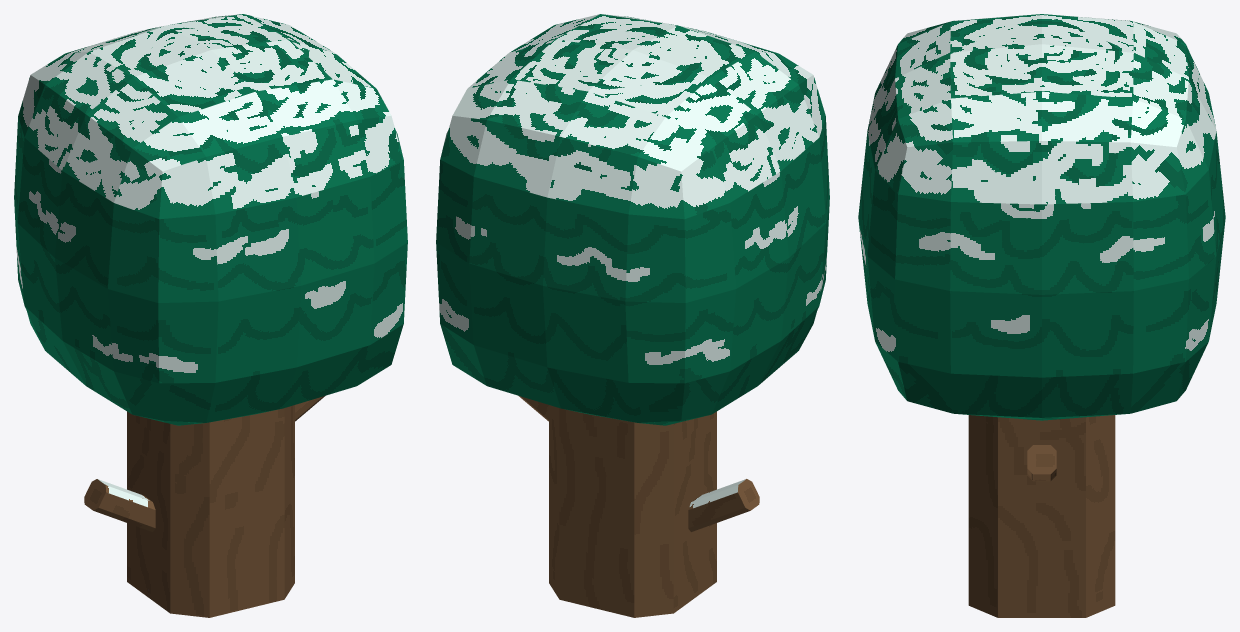
Rendered from tree3dwinter.gltf.
The picture shows the model from 3 angles, left to right: view 1: azimuth 30°, elevation 25°; view 2: azimuth 150°, elevation 25°; view 3: azimuth 270°, elevation 25°; orthographic projection.
Parts seen in each view (by area): view 1: beveled_cuboid; view 2: beveled_cuboid; view 3: beveled_cuboid.
Boxes of the visible parts, left/top/right/bottom form: beveled_cuboid: left=14, top=14, right=407, bottom=617; beveled_cuboid: left=436, top=14, right=829, bottom=617; beveled_cuboid: left=858, top=14, right=1225, bottom=617.
Size of the model in its own units: 1.56 by 2.55 by 1.56.
Materials: 2 (2 with a texture image).
